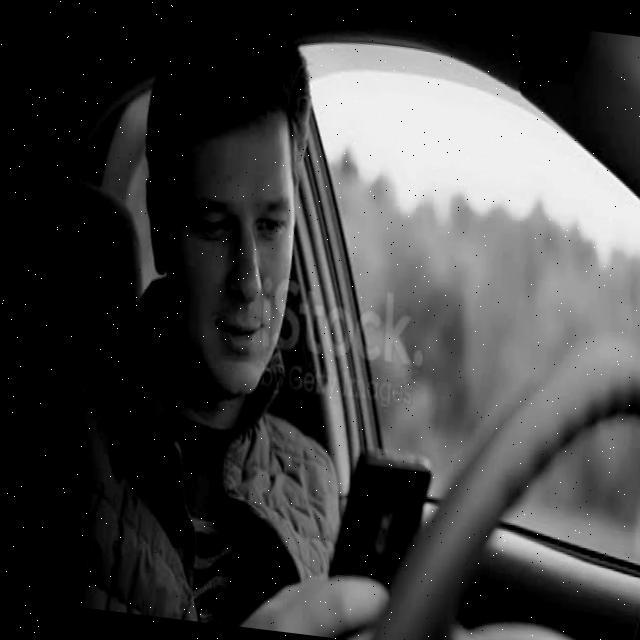PhoneCall: (306, 438, 434, 612)
